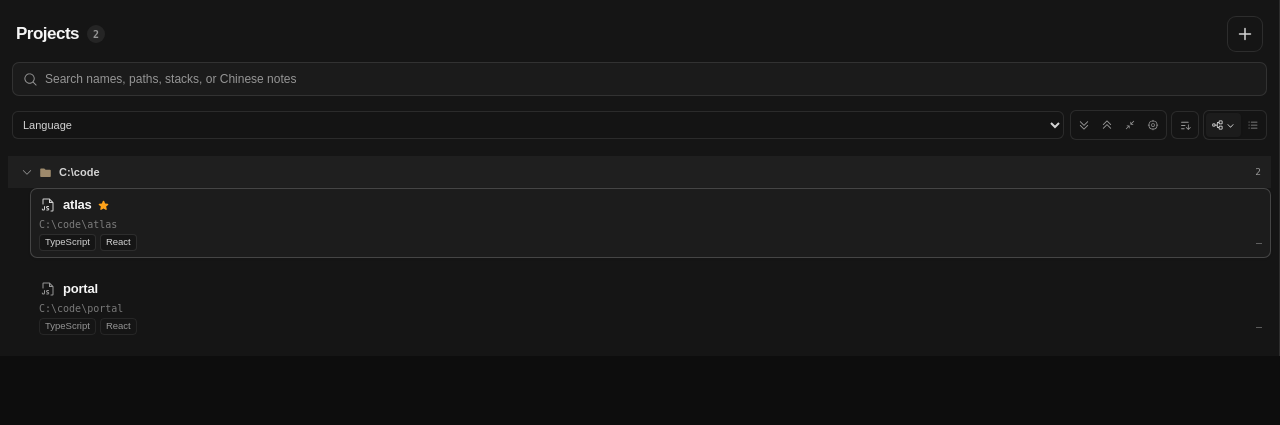
it: ProjectList tree › changes a project icon and restores automatic detection from the context menu
Right-click the button "atlas C:\\code\\atlas TypeScript React —" at (78, 224), box x1=30 y1=188 x2=1271 y2=258
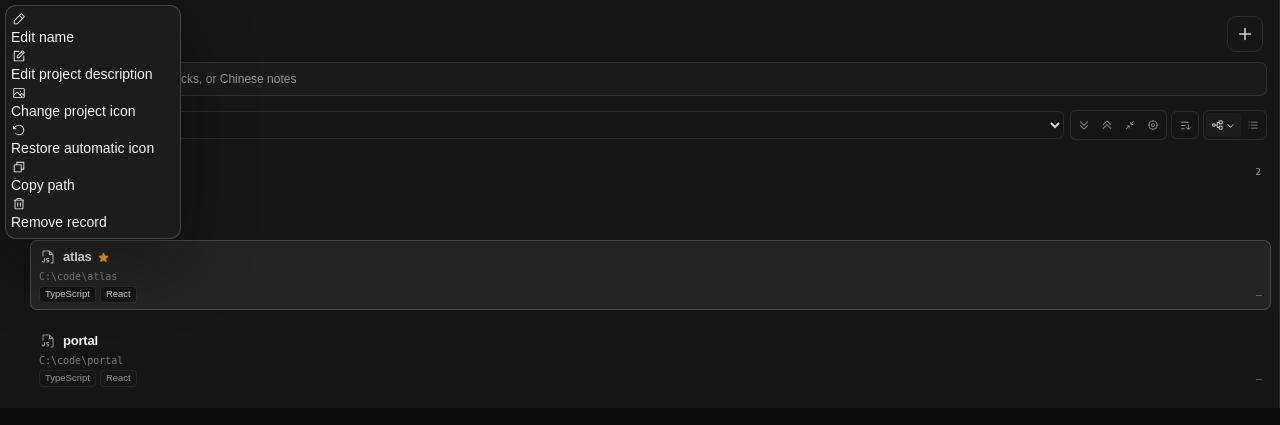
Click the menu item "Change project icon" at (73, 102), box x1=11 y1=86 x2=136 y2=119
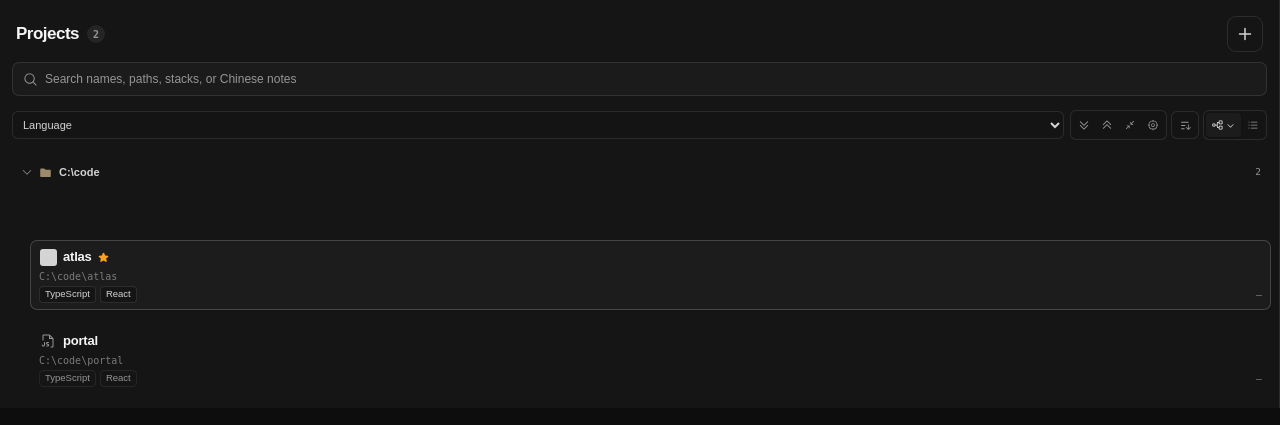
Right-click the button "atlas C:\\code\\atlas TypeScript React —" at (78, 276), box x1=30 y1=240 x2=1271 y2=310
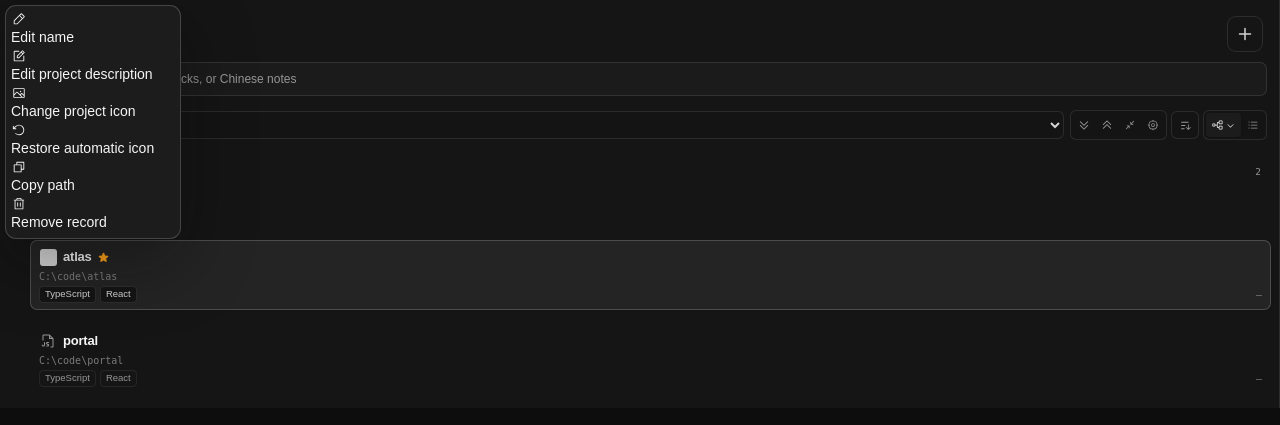
Click the menu item "Restore automatic icon" at (93, 140), box x1=11 y1=122 x2=175 y2=159
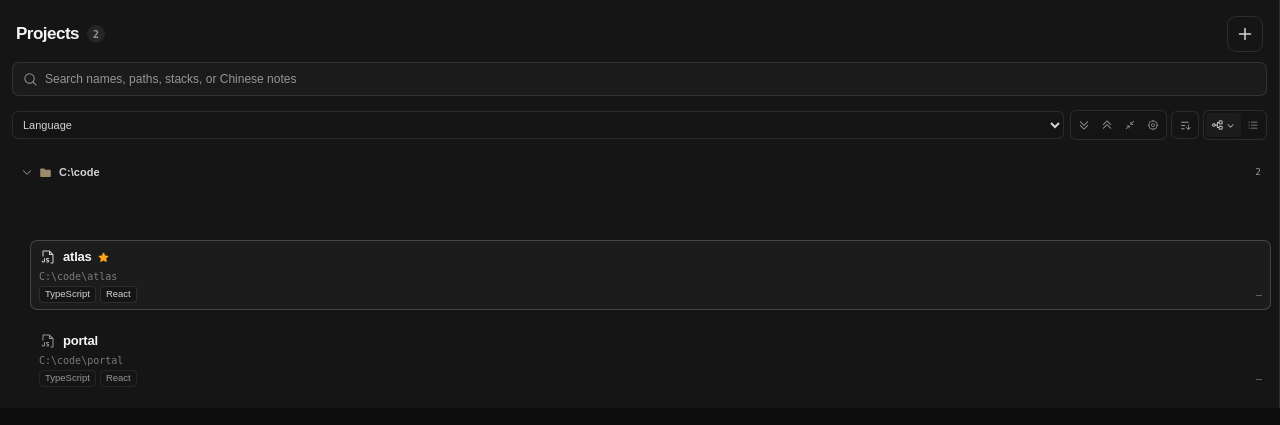
Now the picture is gone
